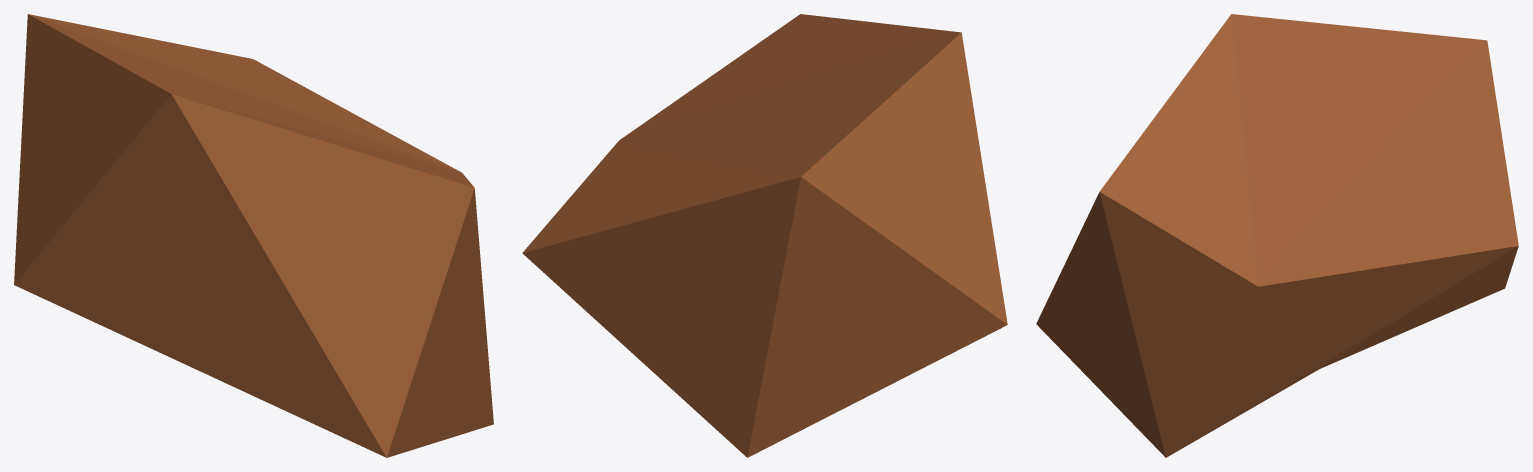
The model's file is Rock.fbx.
The picture shows the model from 3 angles, left to right: view 1: azimuth 30°, elevation 25°; view 2: azimuth 150°, elevation 25°; view 3: azimuth 270°, elevation 25°; orthographic projection. The views are drawn at different scales.
Visible parts, largest first — view 1: pPlatonic2; view 2: pPlatonic2; view 3: pPlatonic2.
Part boxes in pixels (box(x1,y1,x2,y2)): pPlatonic2: box(14, 14, 493, 457); pPlatonic2: box(522, 14, 1007, 457); pPlatonic2: box(1036, 14, 1518, 457).
Size of the model in its own units: 6.58 by 5.76 by 7.79.
